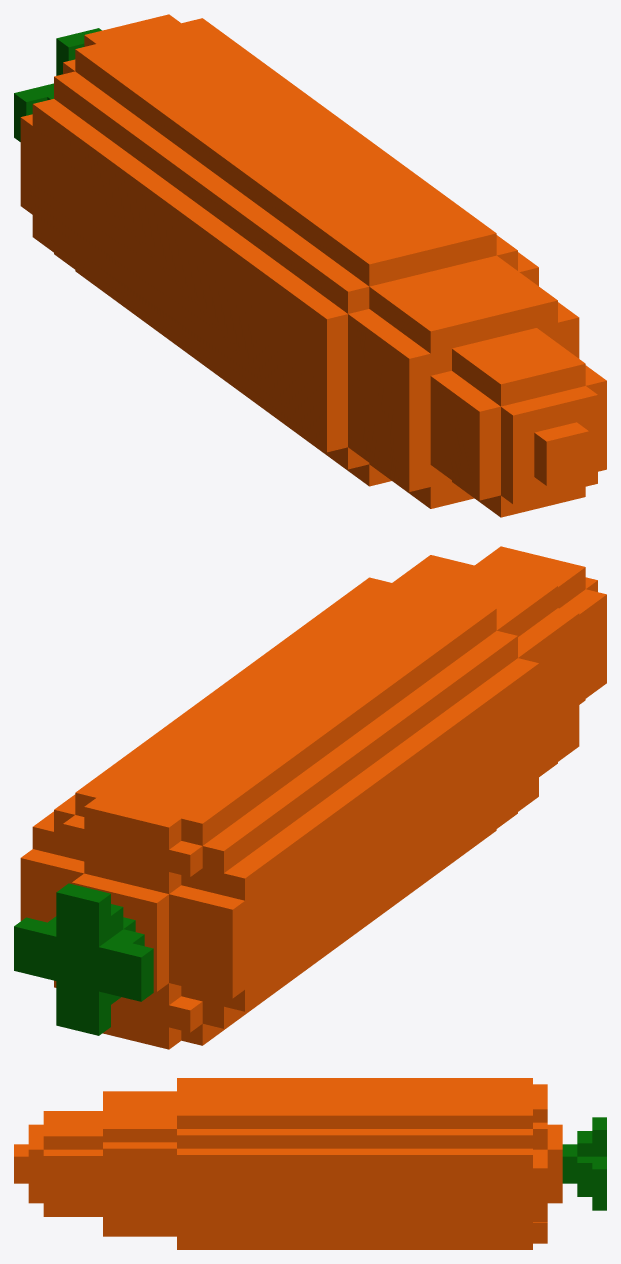
File: carrot.fbx
The picture shows the model from 3 angles, top to bottom: view 1: azimuth 30°, elevation 25°; view 2: azimuth 150°, elevation 25°; view 3: azimuth 270°, elevation 25°; orthographic projection. The views are drawn at different scales.
Visible parts, largest first — view 1: Polygon; view 2: Polygon; view 3: Polygon.
Part boxes in pixels (x1=…): Polygon: x1=14, y1=14, x2=606, y2=517; Polygon: x1=14, y1=546, x2=606, y2=1049; Polygon: x1=14, y1=1078, x2=606, y2=1249.
Bounding box in the file's own units: 1 × 1 × 4.
1 material, 1 textured.
